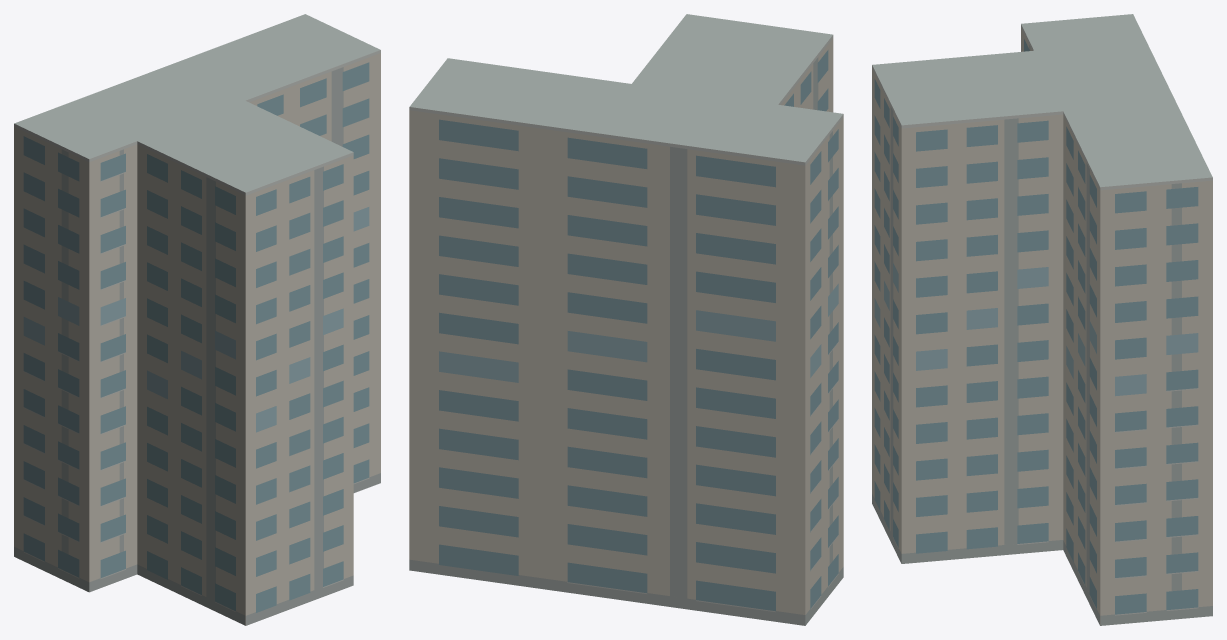
The model's file is residential-4a84c505-06bc-4bbf-92b5-670cb78b8dd0.glb.
3 renders of one model, left to right at view 1: azimuth 30°, elevation 25°; view 2: azimuth 150°, elevation 25°; view 3: azimuth 270°, elevation 25°, orthographic. The views are drawn at different scales.
Parts seen in each view (by area): view 1: residential-4a84c505-06bc-4bbf-92b5-670cb78b8dd0.tmp; view 2: residential-4a84c505-06bc-4bbf-92b5-670cb78b8dd0.tmp; view 3: residential-4a84c505-06bc-4bbf-92b5-670cb78b8dd0.tmp.
Part boxes in pixels (left/top/right/bottom): residential-4a84c505-06bc-4bbf-92b5-670cb78b8dd0.tmp: left=14, top=14, right=380, bottom=625; residential-4a84c505-06bc-4bbf-92b5-670cb78b8dd0.tmp: left=409, top=14, right=843, bottom=625; residential-4a84c505-06bc-4bbf-92b5-670cb78b8dd0.tmp: left=872, top=14, right=1212, bottom=625.
Bounding box in the file's own units: 28.8 × 34 × 23.95.
